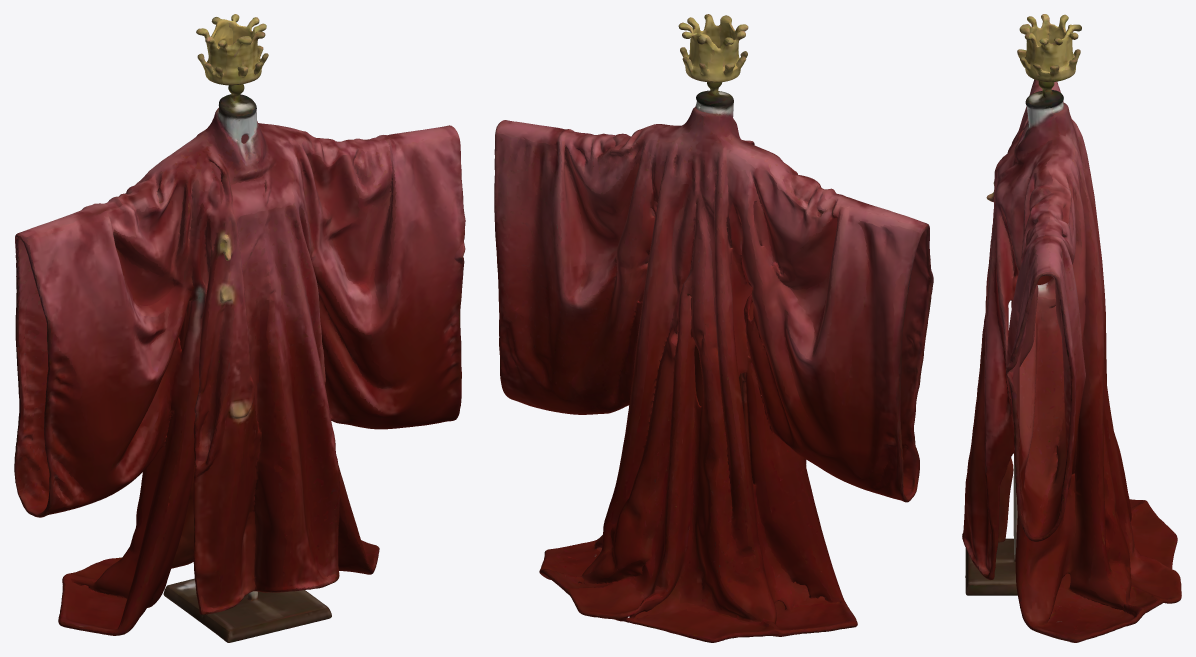
The model's file is tex_mesh.glb.
The picture shows the model from 3 angles, left to right: view 1: azimuth 30°, elevation 25°; view 2: azimuth 150°, elevation 25°; view 3: azimuth 270°, elevation 25°; orthographic projection. The views are drawn at different scales.
Visible parts, largest first — view 1: geometry_0; view 2: geometry_0; view 3: geometry_0.
Part boxes in pixels (bbox=[...]): geometry_0: bbox=[14, 14, 465, 642]; geometry_0: bbox=[494, 14, 933, 642]; geometry_0: bbox=[962, 14, 1181, 642].
Bounding box in the file's own units: 2.2 × 2.75 × 1.01.
1 material, 1 textured.
